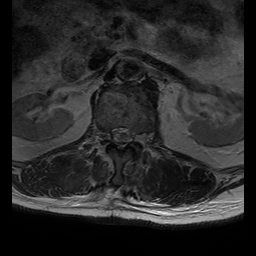CCS_normal: (117, 121, 125, 156)
LFS_normal: (134, 124, 143, 151)
LLS_normal: (125, 120, 134, 149)
RFS_normal: (101, 122, 110, 147)
RLS_normal: (109, 121, 117, 149)
